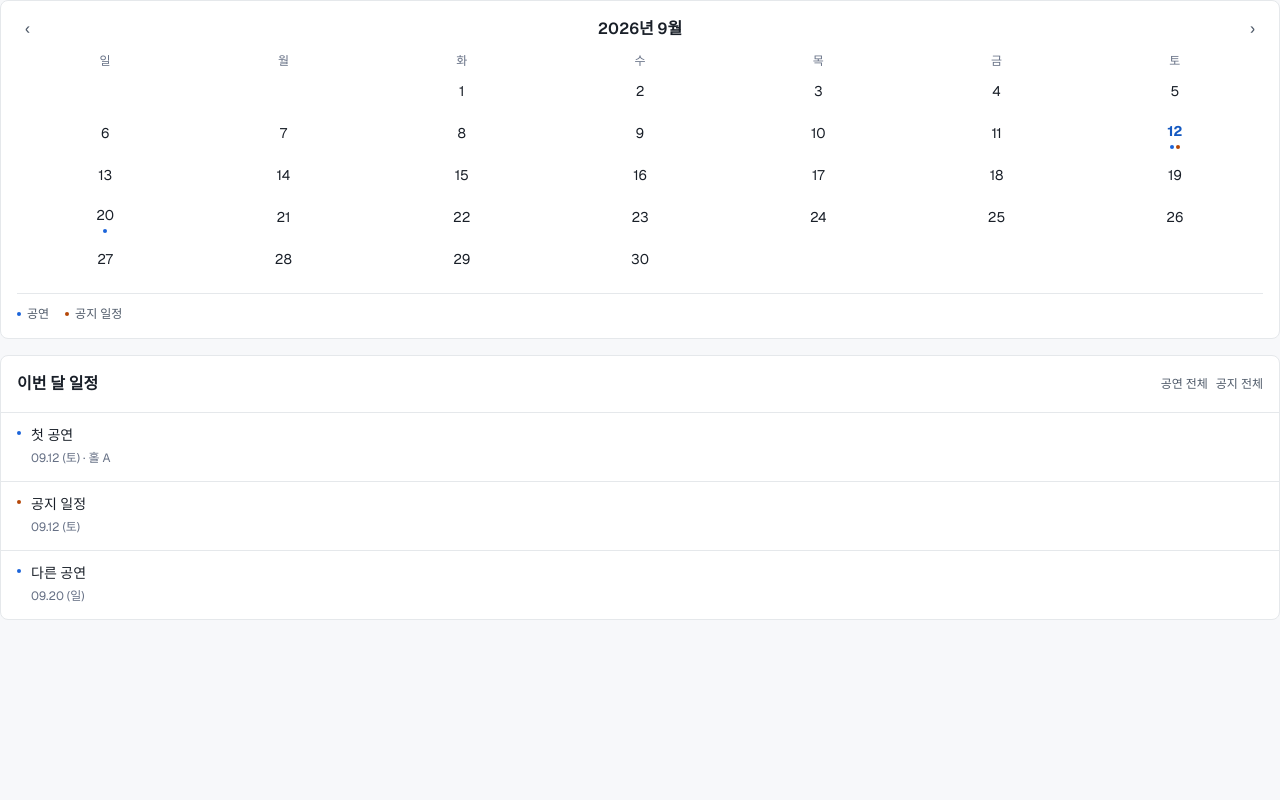
Scenario: MonthCalendar › 날짜를 선택하면 해당 날짜의 일정 목록과 연결한다
The width and height of the screenshot is (1280, 800).
Click the button named "9월 20일, 공연 1건" at (105, 219), box [17,199,193,239]
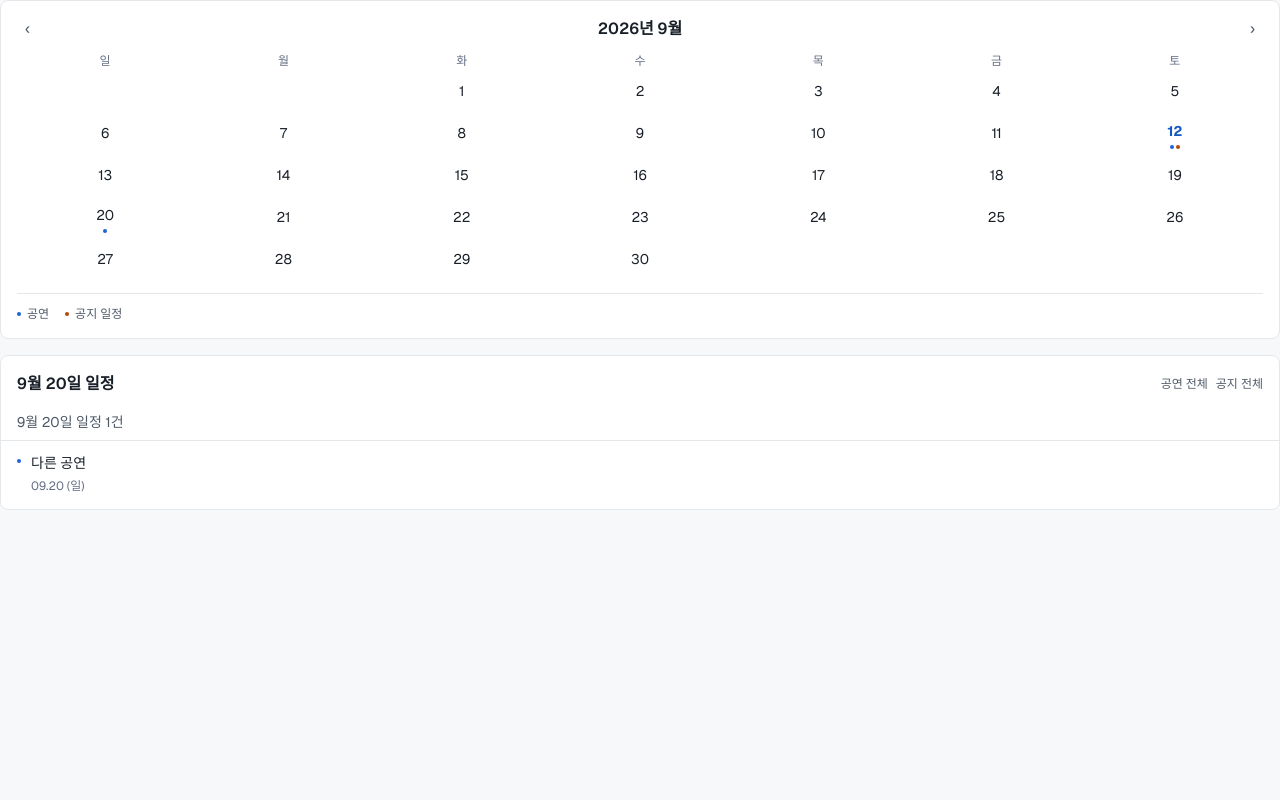
Expected: the text "다른 공연" is shown, [31,453,86,473]
Expected: the link "첫 공연" is gone
